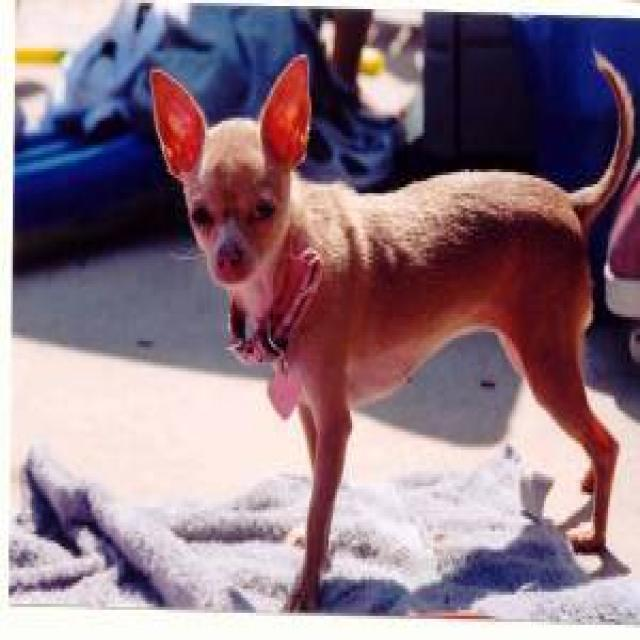dog-chihuahua: (149, 42, 636, 604)
